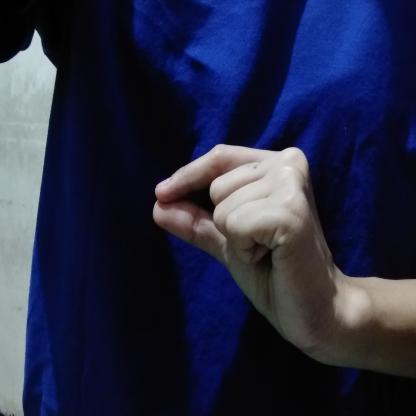nothing: (143, 137, 346, 369)
